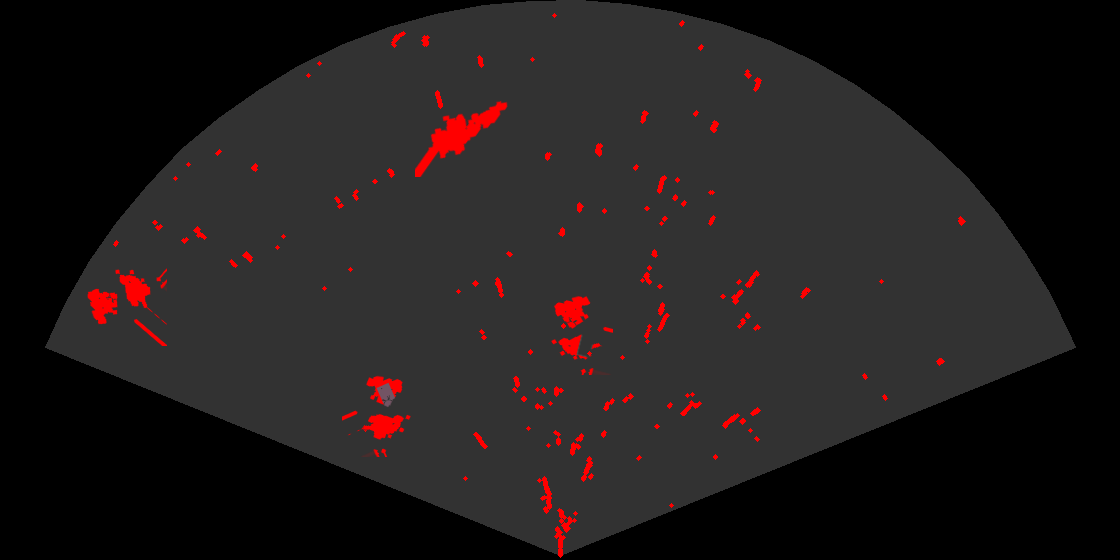cage: (86, 267, 167, 346), (342, 374, 412, 457), (550, 294, 613, 375)
frogman: (415, 99, 509, 177)
